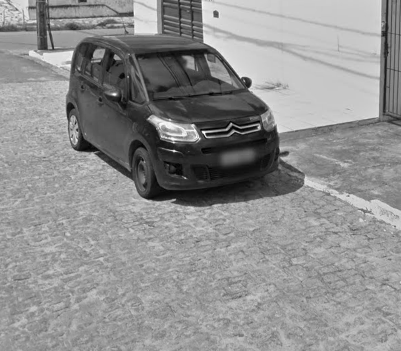car: (65, 12, 282, 199)
